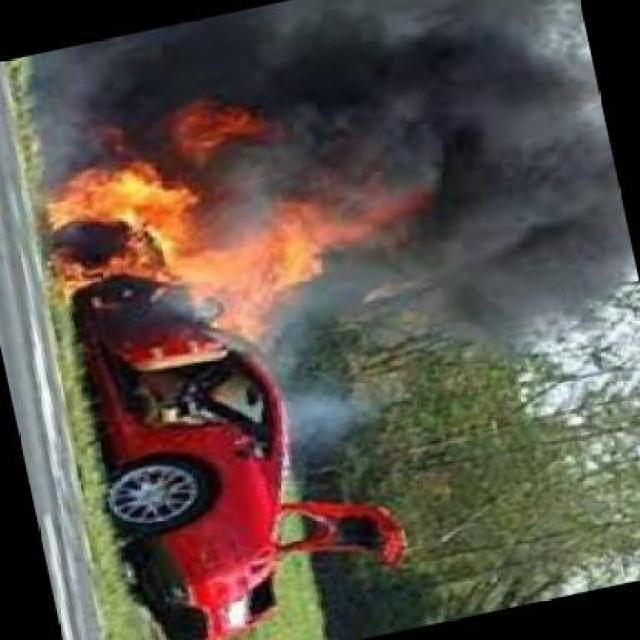Fire: (43, 110, 410, 352)
Smoke: (328, 3, 618, 346), (51, 44, 370, 106)
